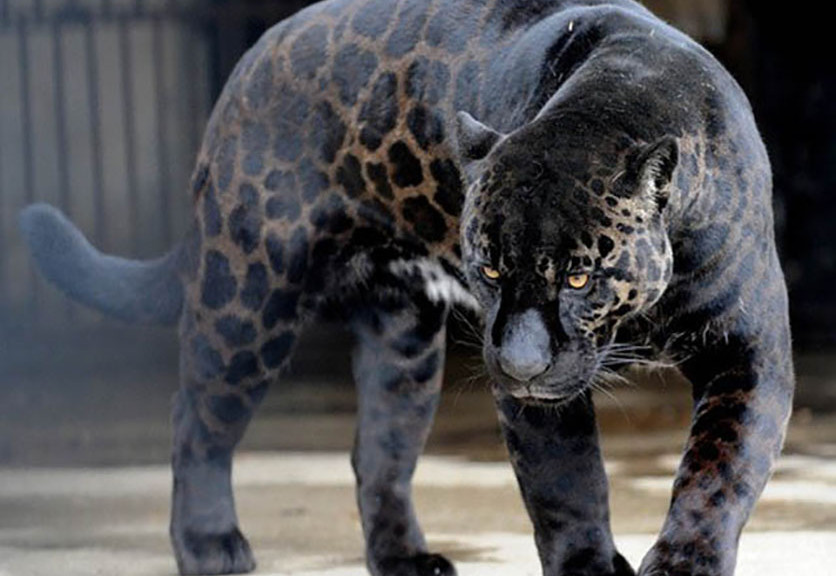panther: (21, 9, 790, 576)
